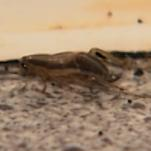cockroach: (16, 47, 125, 97)
